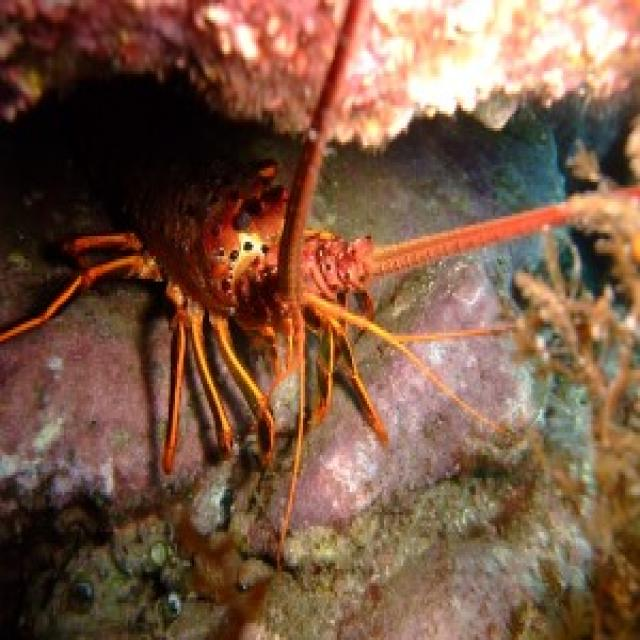lobsters: (3, 7, 629, 541), (81, 157, 291, 476)
